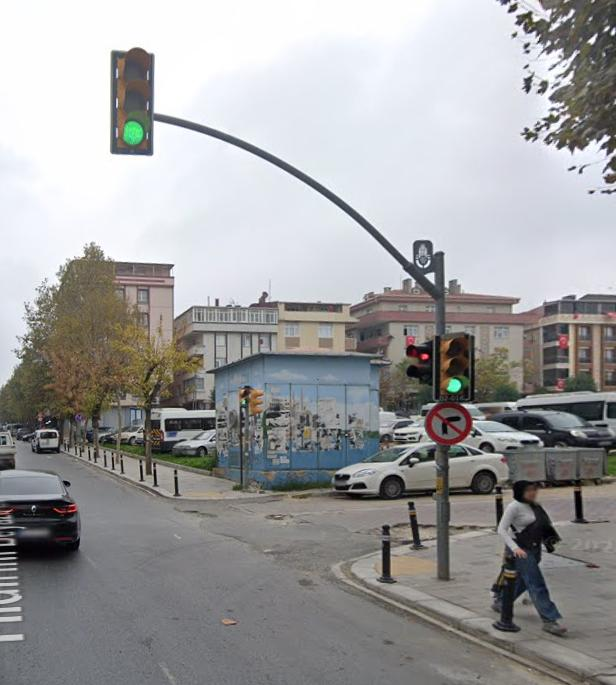greenlight: (114, 51, 150, 146), (437, 334, 475, 394)
rightturnsareforbidden: (427, 405, 470, 441)
